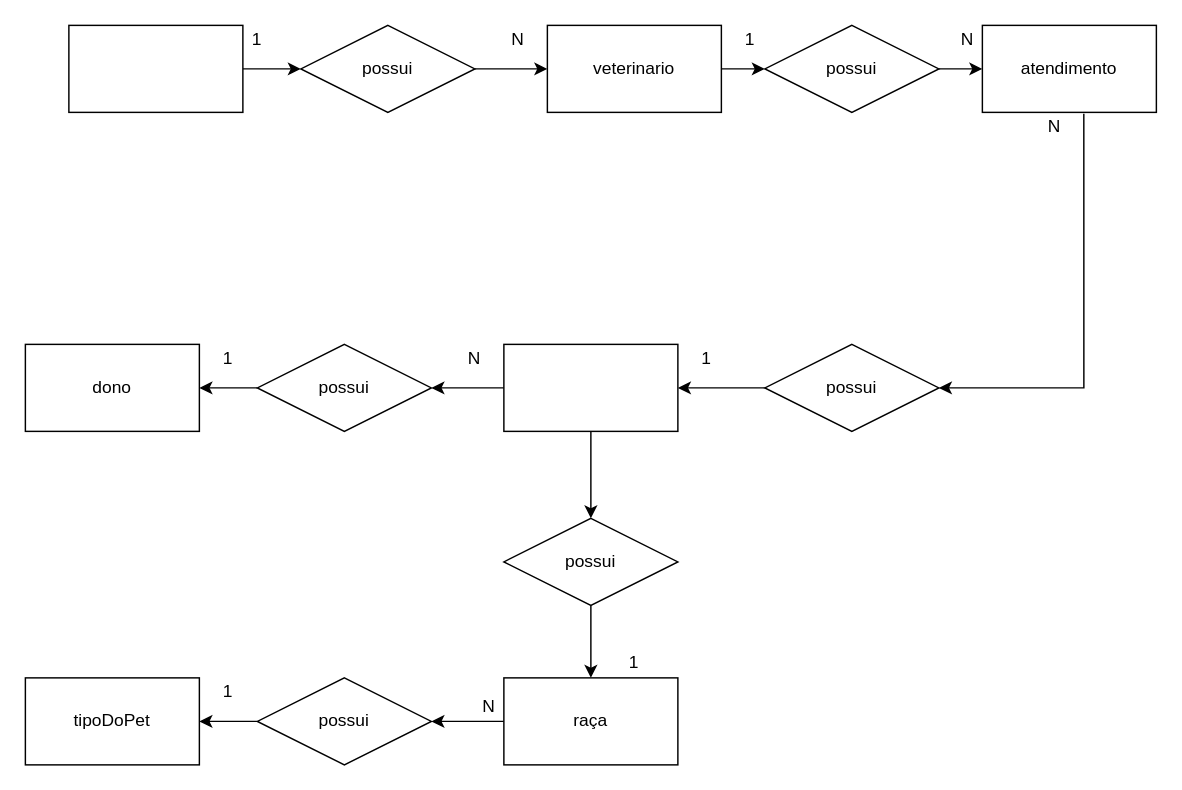
This 1182x790 diagram has some shape labels left out. Here are the shapes that lost their labels. From the top down, the centre of each, then its label:
At point (155, 68): "clinica".
At point (590, 387): "pet".
